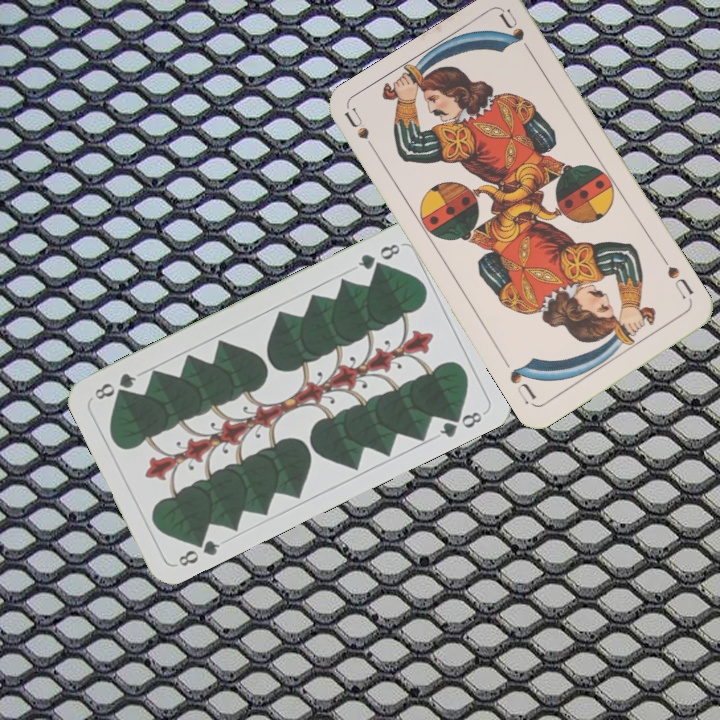G8: (174, 531, 223, 570), (354, 239, 403, 273)
SU: (341, 105, 383, 160), (658, 253, 696, 307)
